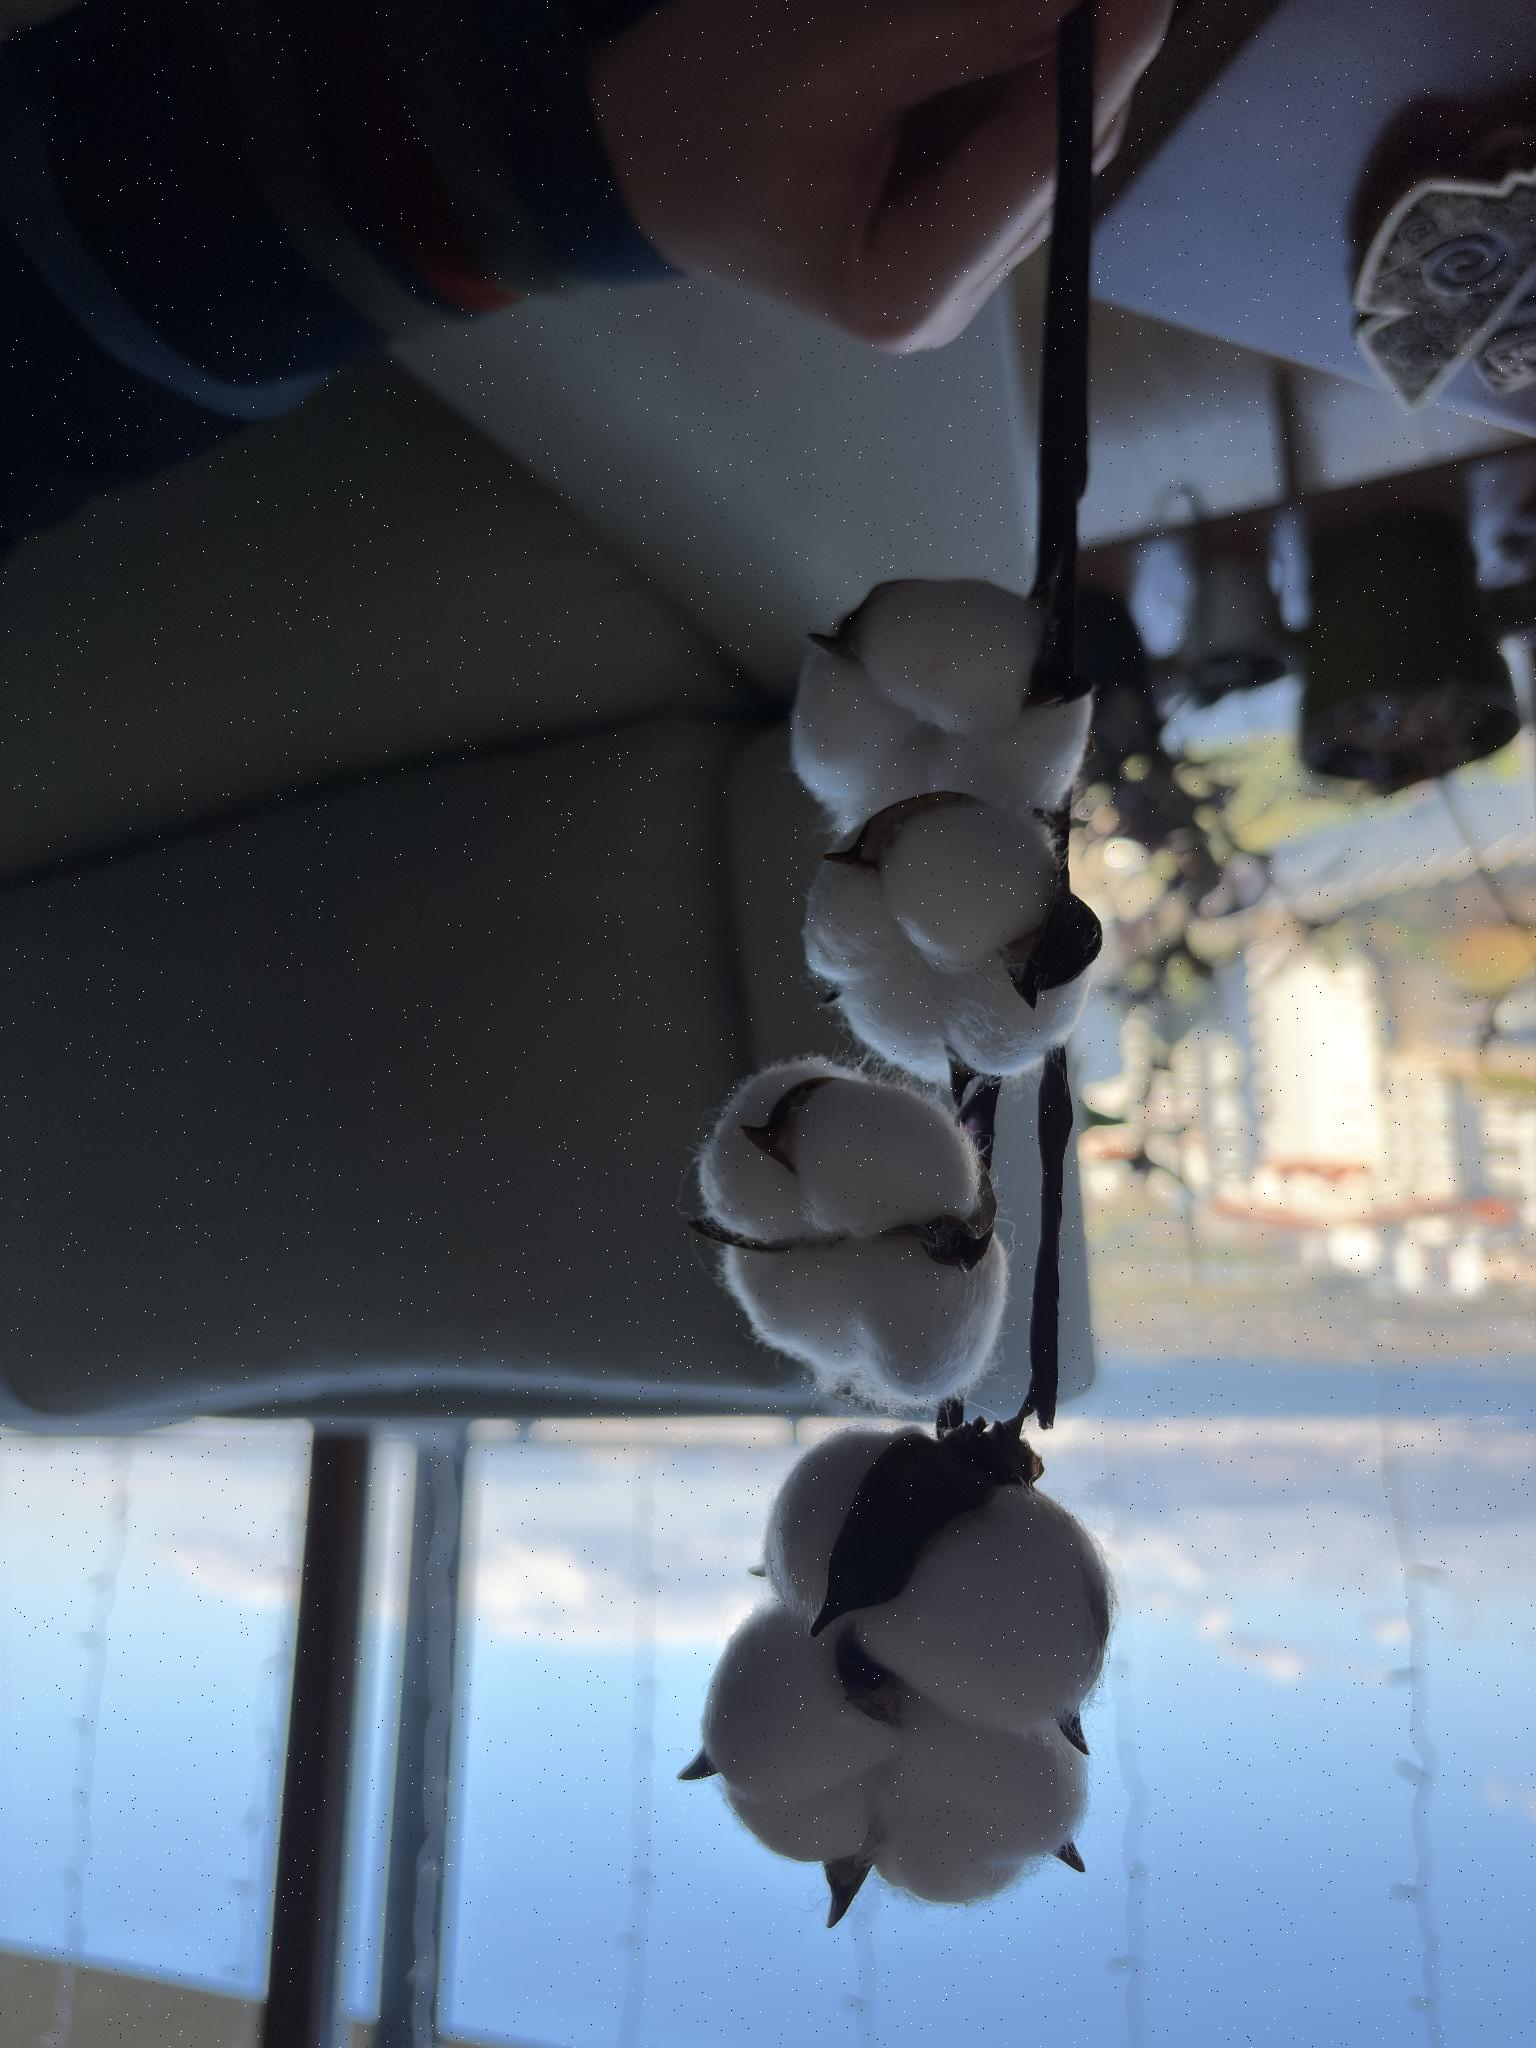cotton_boll: (855, 1487, 1108, 1732), (702, 1609, 899, 1803), (892, 1693, 1086, 1863), (787, 1077, 979, 1237), (878, 801, 1054, 971), (854, 579, 1039, 735), (841, 1235, 1008, 1403), (763, 1432, 904, 1624), (887, 697, 1089, 814), (791, 648, 916, 826), (697, 1064, 816, 1238), (723, 1247, 863, 1388), (874, 1780, 1026, 1904), (934, 956, 1089, 1077), (839, 963, 949, 1082), (805, 860, 904, 985), (724, 1780, 871, 1863), (841, 755, 841, 756)
cotton_boll-cluster: (695, 1426, 1113, 1911), (692, 1056, 1013, 1409), (799, 798, 1094, 1087), (786, 574, 1099, 832)
